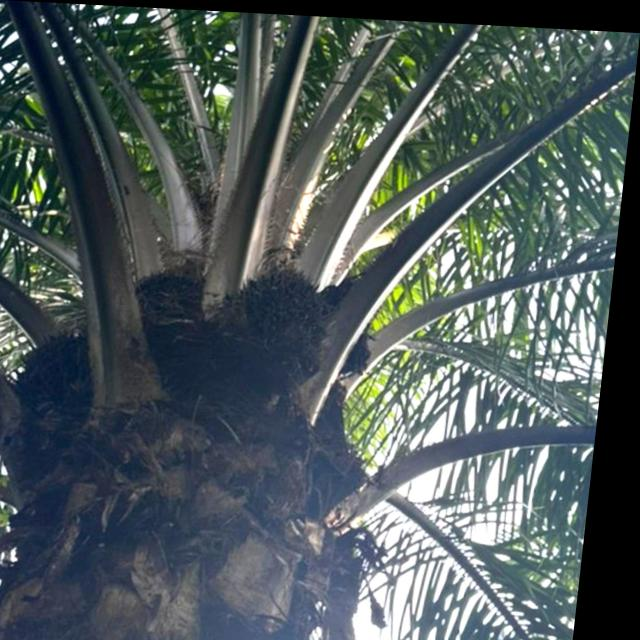unripe: (217, 250, 349, 385), (1, 321, 119, 440)
